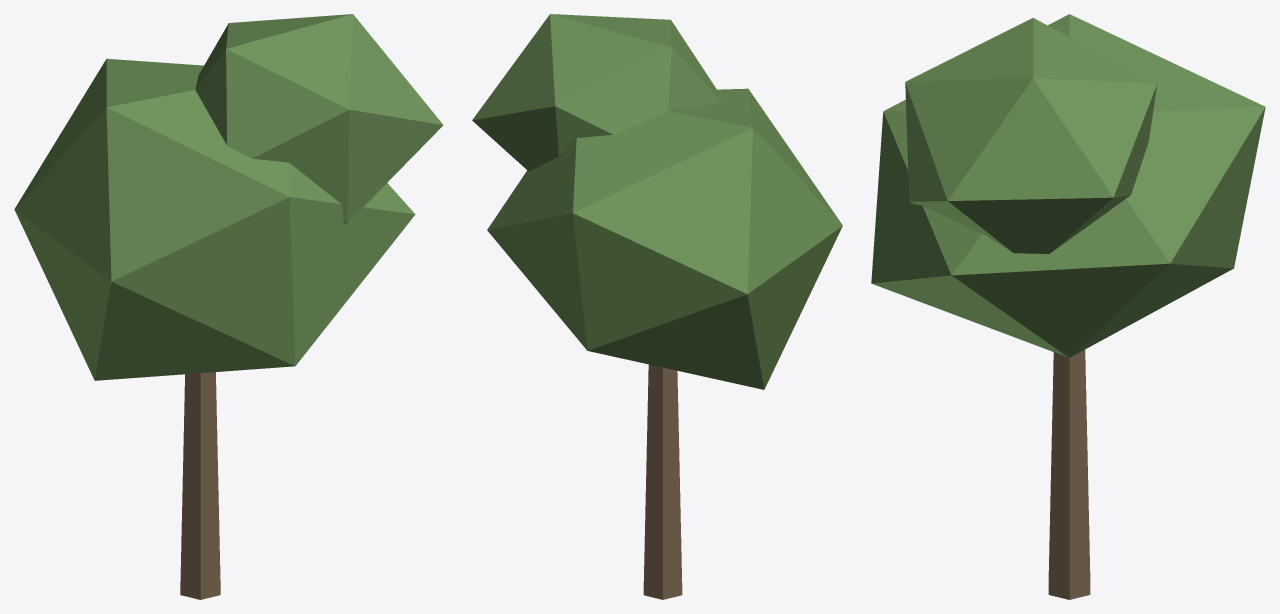
The model's file is broadleaf.glb.
3 renders of one model, left to right at view 1: azimuth 30°, elevation 25°; view 2: azimuth 150°, elevation 25°; view 3: azimuth 270°, elevation 25°, orthographic. The views are drawn at different scales.
Parts seen in each view (by area): view 1: broadleaf; view 2: broadleaf; view 3: broadleaf.
Part boxes in pixels (<box>): broadleaf: <box>14,14,443,599</box>; broadleaf: <box>472,14,842,599</box>; broadleaf: <box>871,14,1265,599</box>.
Size of what is drawn, in the model's own units: 3.22 by 5.29 by 3.26.
